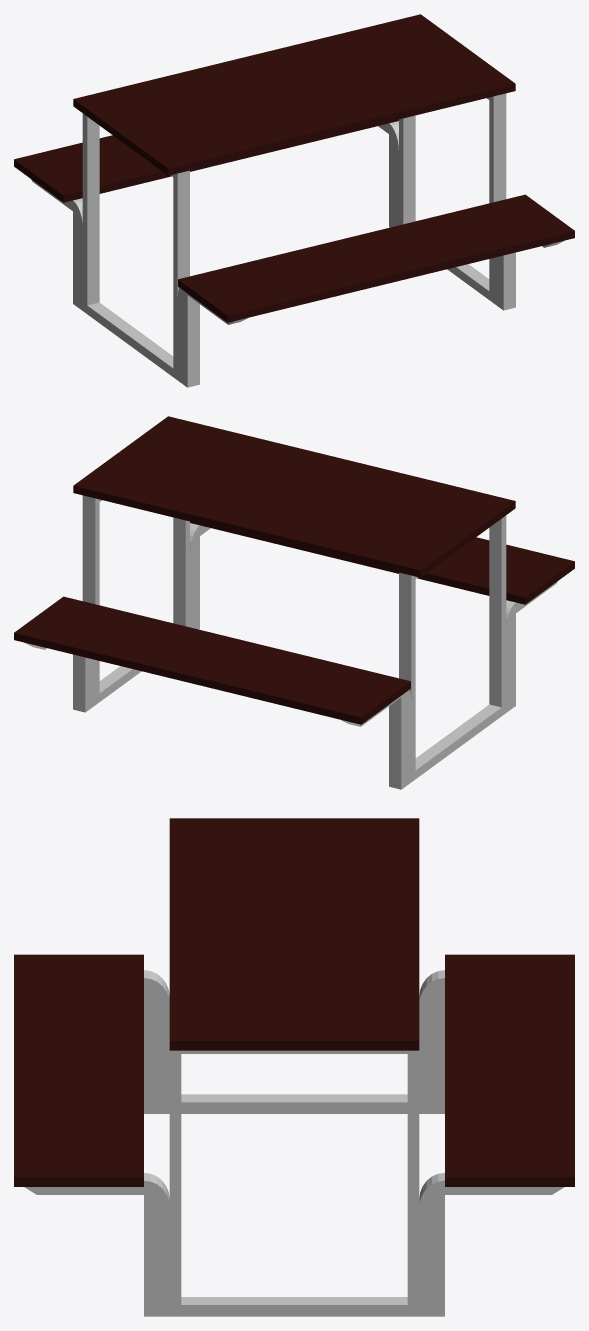
The model's file is wooddesk.glb.
The picture shows the model from 3 angles, top to bottom: view 1: azimuth 30°, elevation 25°; view 2: azimuth 150°, elevation 25°; view 3: azimuth 270°, elevation 25°; orthographic projection. The views are drawn at different scales.
Visible parts, largest first — view 1: chair.052; view 2: chair.052; view 3: chair.052.
Part boxes in pixels (x1=…): chair.052: x1=14, y1=14, x2=574, y2=387; chair.052: x1=14, y1=416, x2=574, y2=789; chair.052: x1=14, y1=818, x2=574, y2=1316.
Bounding box in the file's own units: 1.5 × 0.8843 × 1.6.
